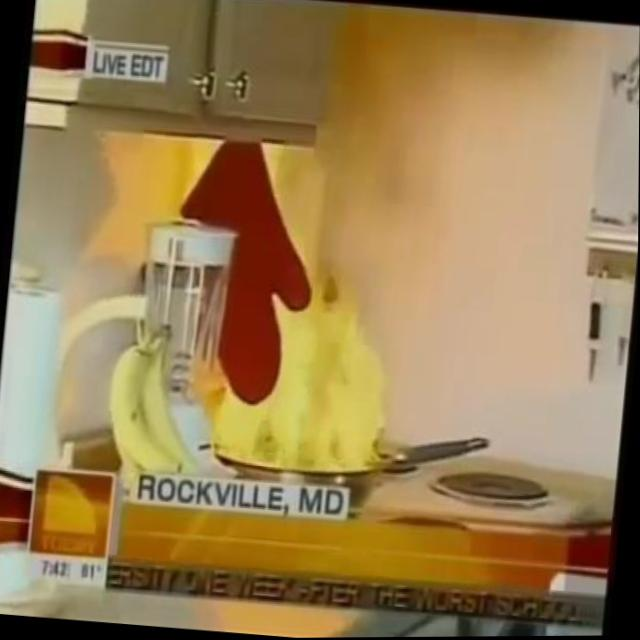fire: (203, 135, 414, 478)
